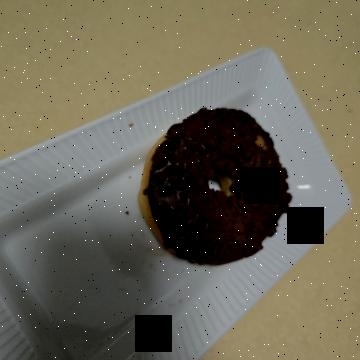doughnut: (95, 48, 281, 227)
